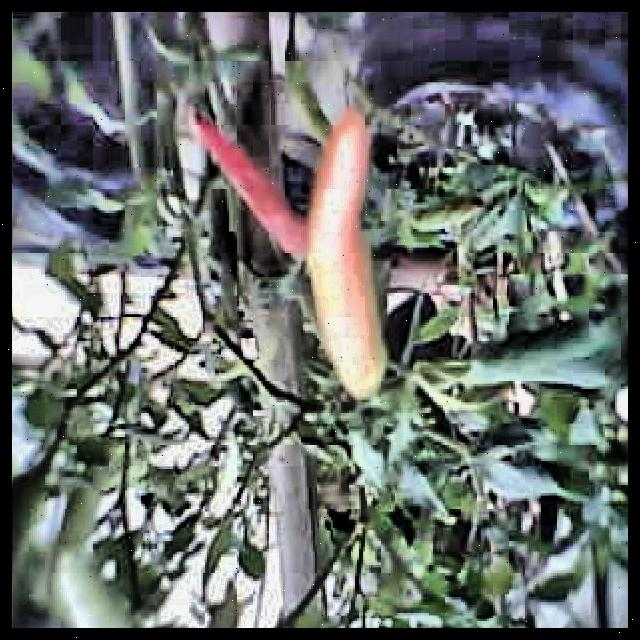Cabai: (317, 89, 390, 416), (191, 127, 315, 265)
